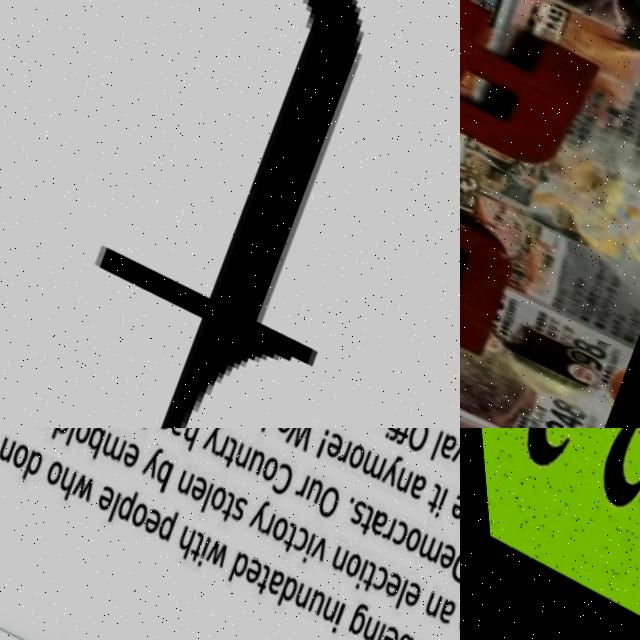2: (545, 428, 640, 543)
3: (466, 428, 640, 515)
A: (460, 0, 600, 175)
T: (0, 0, 460, 428)
U: (460, 158, 528, 358)
